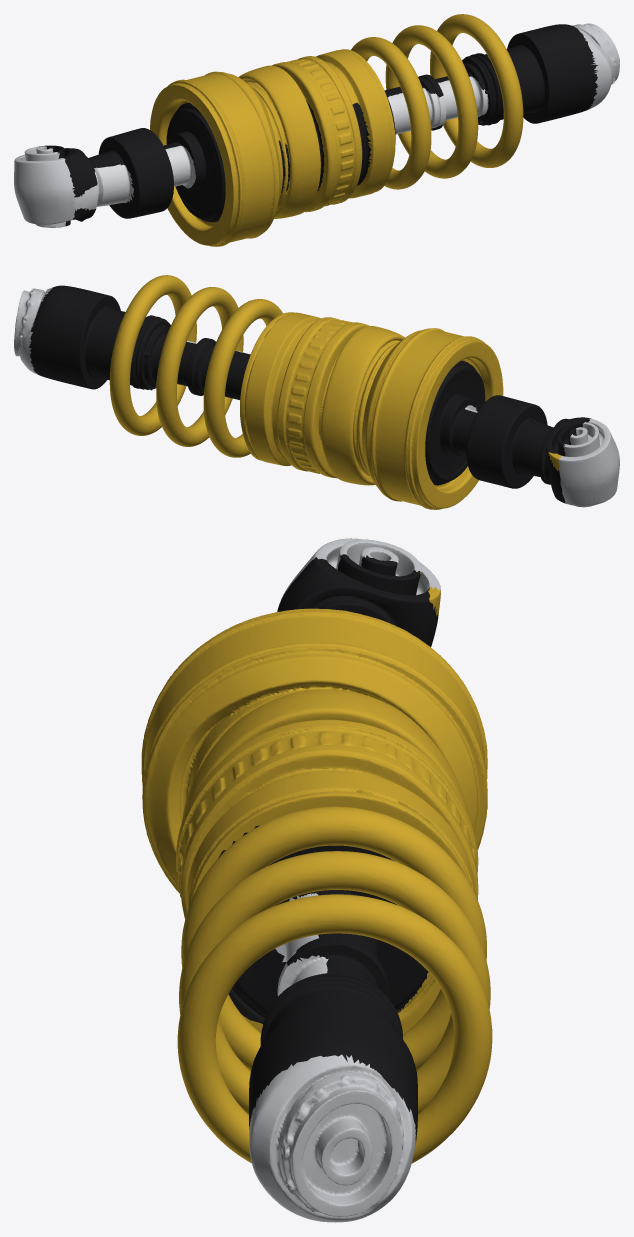
The model's file is ammortizzatore_foto.glb.
The picture shows the model from 3 angles, top to bottom: view 1: azimuth 30°, elevation 25°; view 2: azimuth 150°, elevation 25°; view 3: azimuth 270°, elevation 25°; orthographic projection. The views are drawn at different scales.
Visible parts, largest first — view 1: Object_5; view 2: Object_5; view 3: Object_5.
Boxes of the visible parts, left/top/right/bottom form: Object_5: left=14, top=14, right=619, bottom=246; Object_5: left=14, top=275, right=619, bottom=509; Object_5: left=141, top=538, right=492, bottom=1222.
Size of the model in its own units: 0.34 by 0.0854 by 0.0884.
